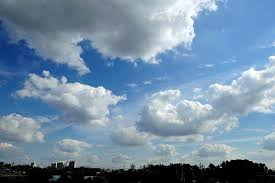forest: (122, 162, 263, 183)
sky: (1, 1, 273, 161)
